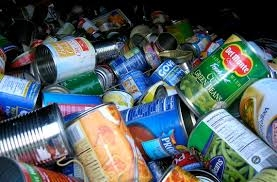metal: (173, 27, 273, 125), (64, 100, 155, 182), (187, 108, 277, 182), (1, 99, 80, 174), (114, 93, 201, 161), (26, 30, 104, 92), (1, 68, 48, 121), (103, 43, 152, 81), (146, 55, 188, 93), (114, 70, 153, 105), (150, 27, 184, 56), (89, 37, 124, 64)
